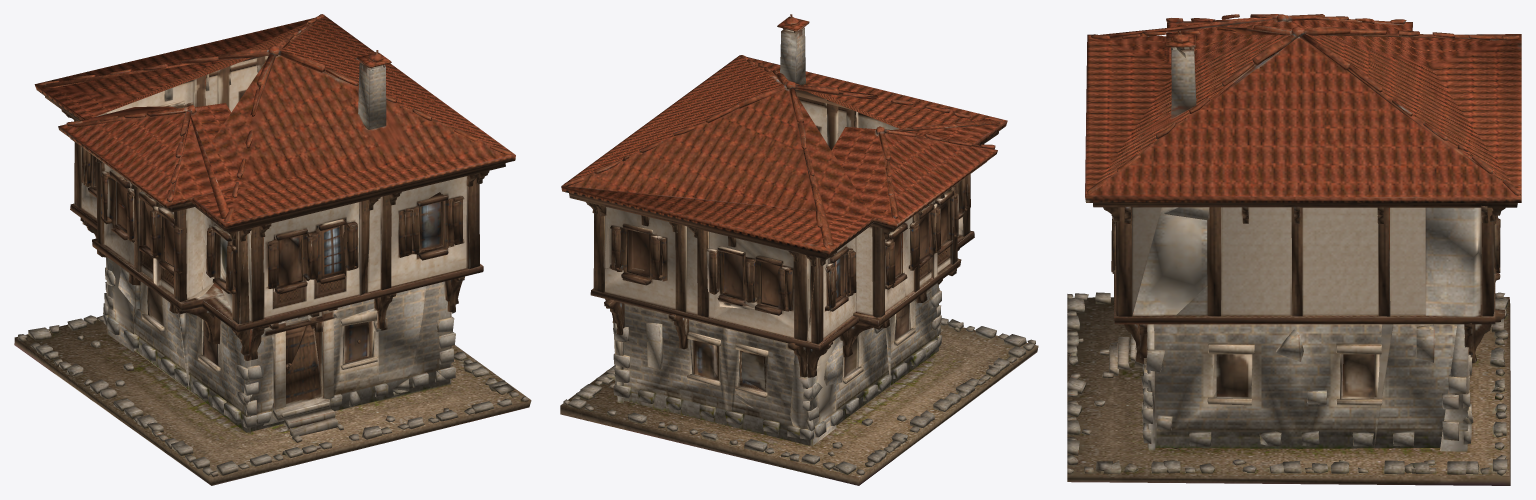
Rendered from Meshy_AI_model.glb.
3 renders of one model, left to right at view 1: azimuth 30°, elevation 25°; view 2: azimuth 150°, elevation 25°; view 3: azimuth 270°, elevation 25°, orthographic. The views are drawn at different scales.
Size of the model in its own units: 0.9356 by 0.9664 by 1.
Materials: 1 (1 with a texture image).
